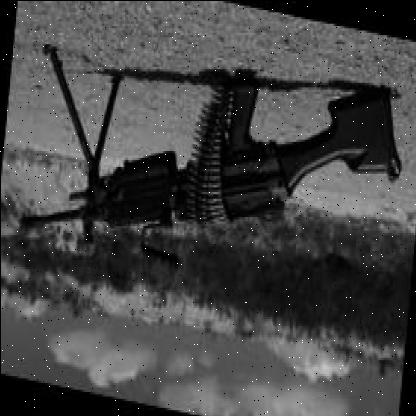rifle: (18, 12, 412, 320)
